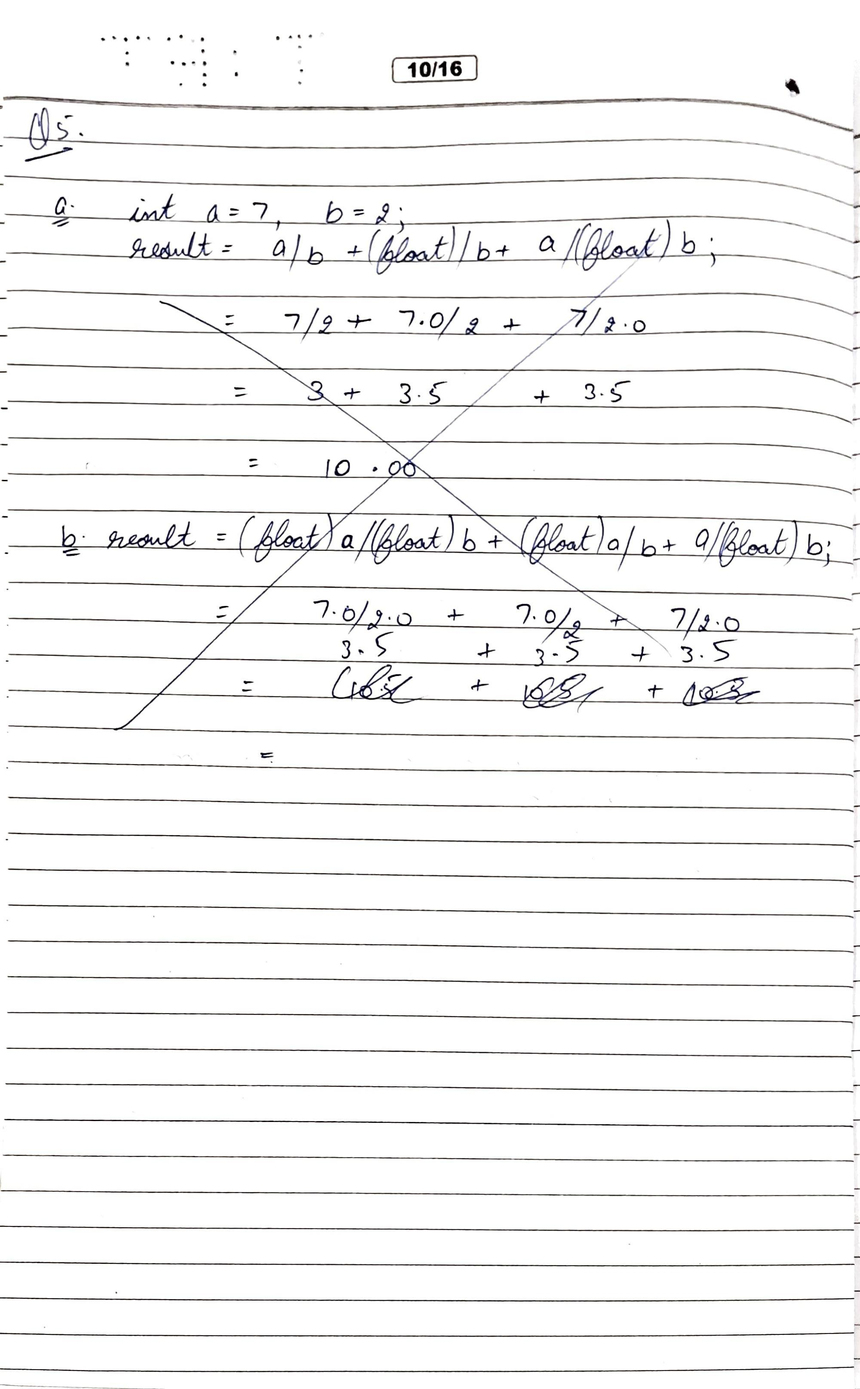cuttings: (17, 101, 835, 737), (256, 748, 286, 766)
